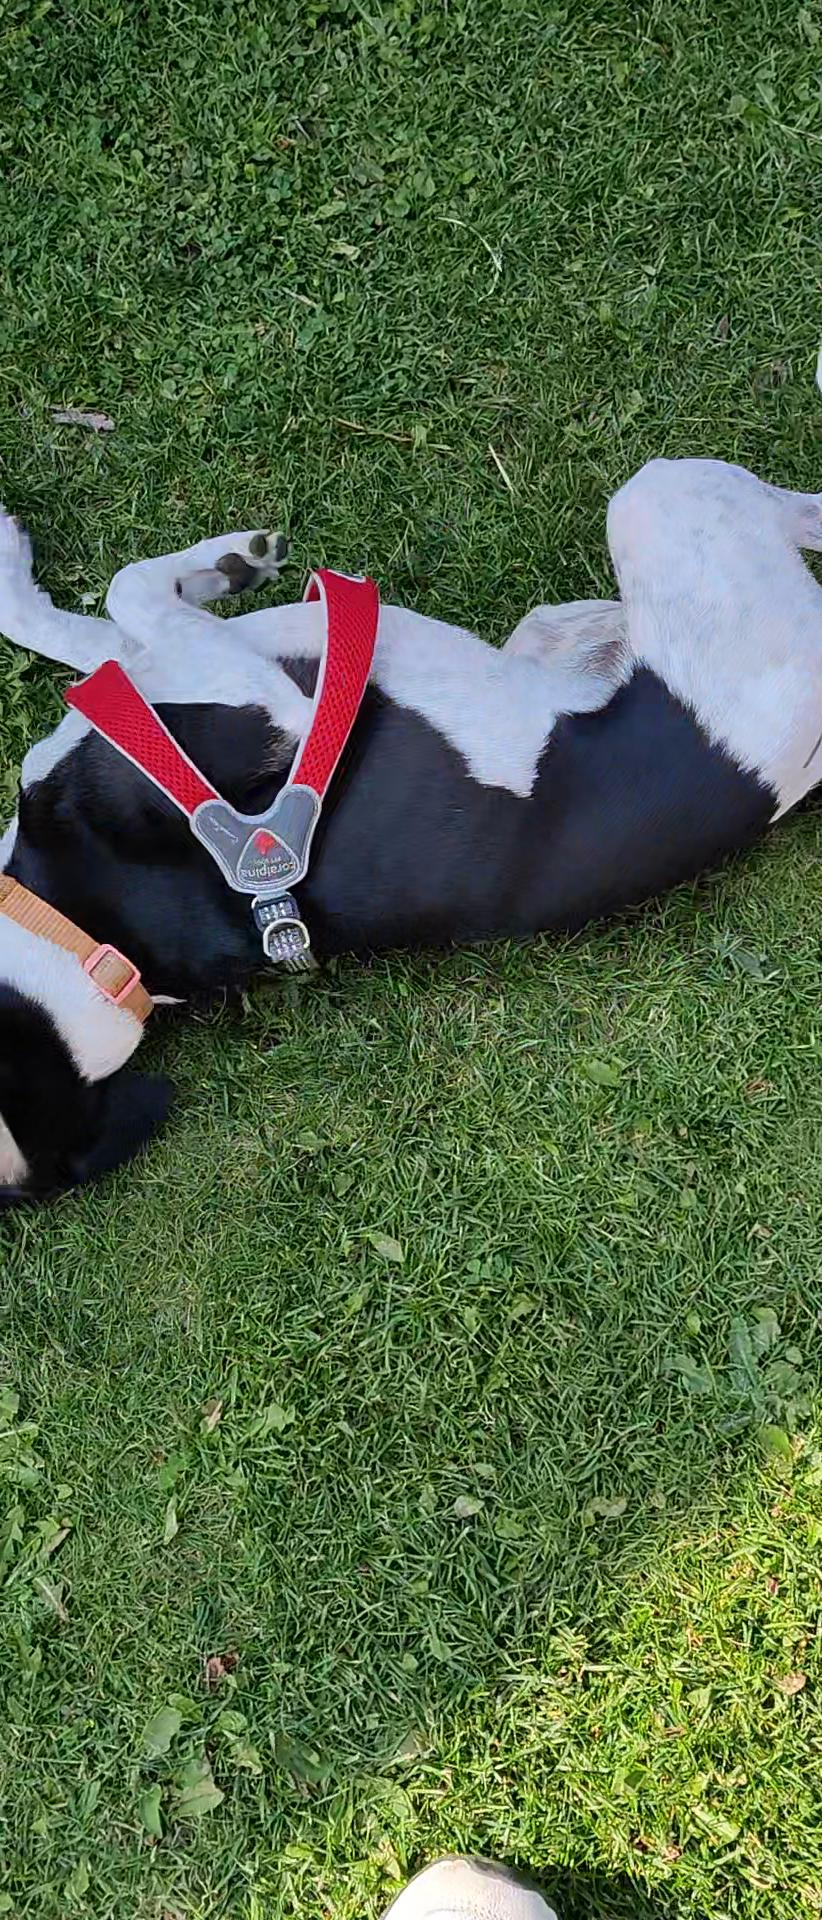Dog: (0, 446, 821, 1215)
